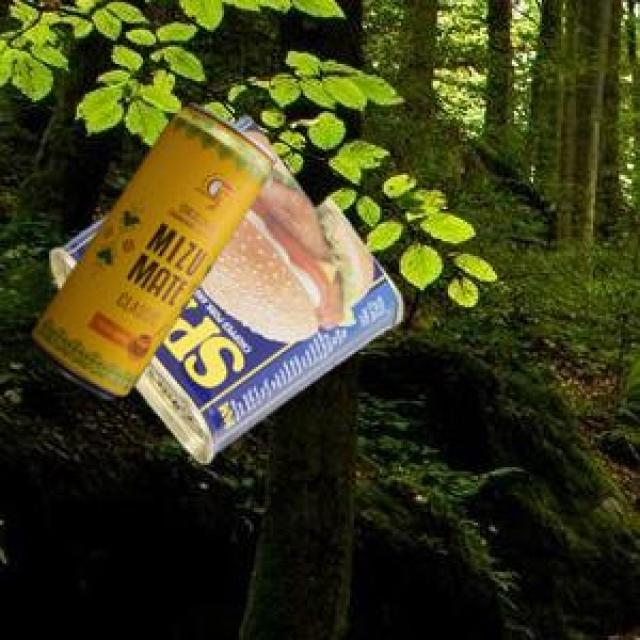logam: (48, 114, 400, 460), (29, 99, 272, 396)
